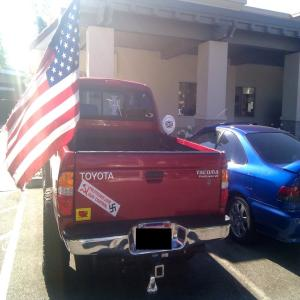Vehicle-registration-plate: (140, 223, 171, 231)
